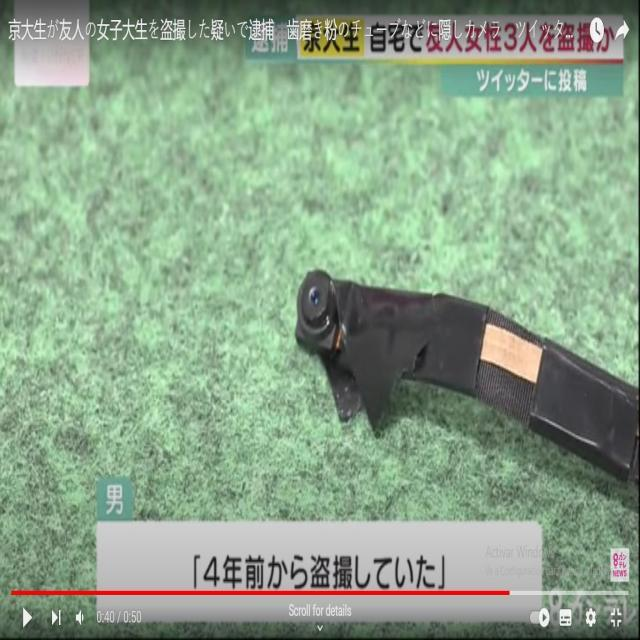hidden camera: (302, 268, 329, 325)
